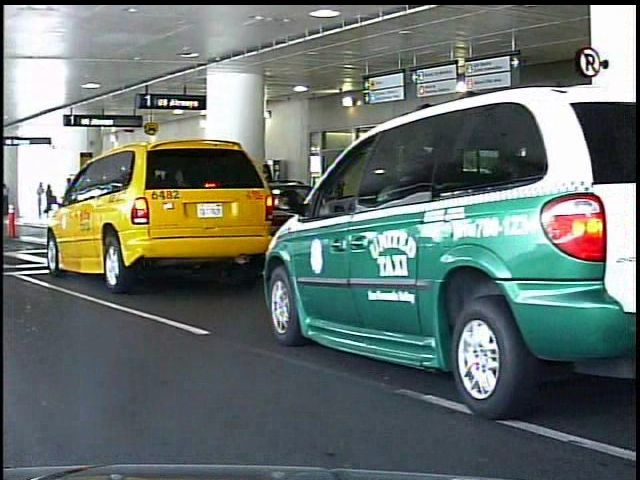person: (46, 181, 58, 220), (37, 180, 48, 220), (4, 183, 13, 217)
